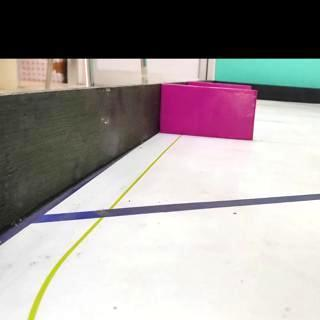xparking: (166, 88, 255, 138)
